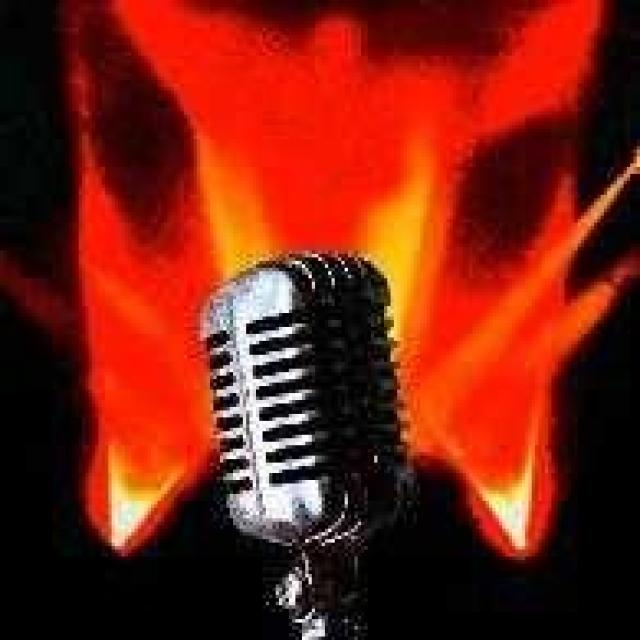microphone: (201, 243, 424, 574)
